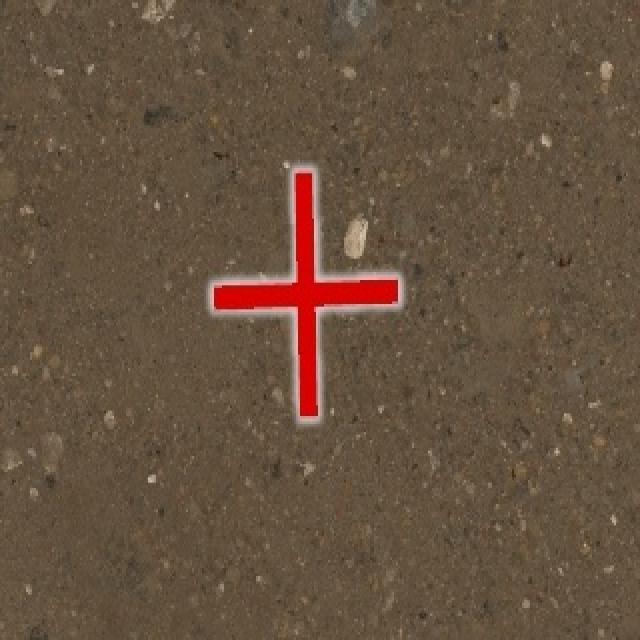x_marker: (211, 170, 399, 418)
